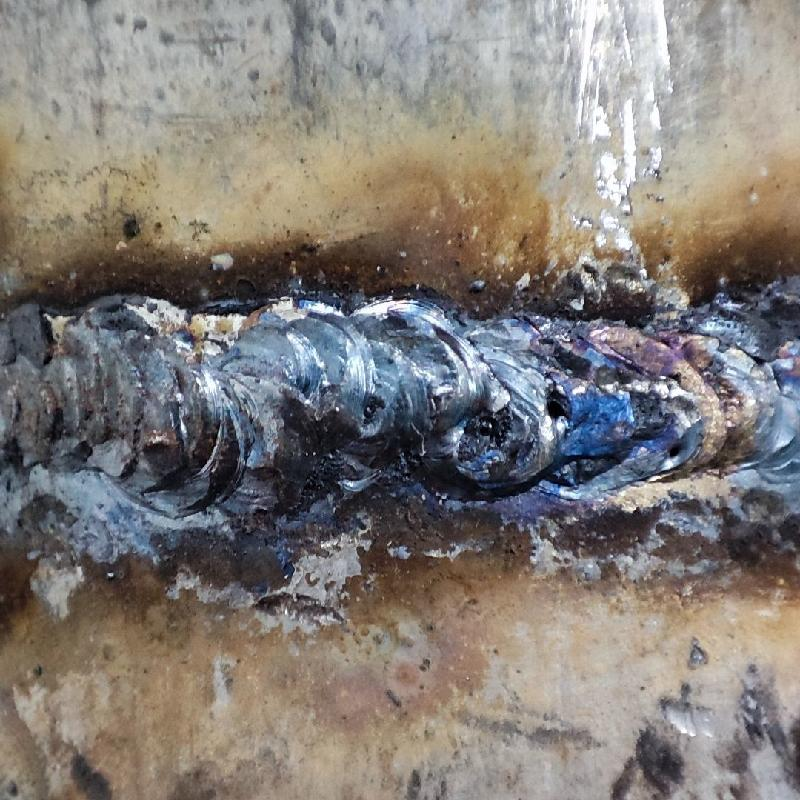Surface_pores: (530, 380, 580, 434), (460, 404, 508, 454), (657, 425, 695, 468)
good: (3, 295, 799, 518)
